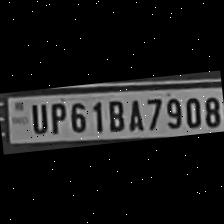0: (180, 92, 202, 128)
1: (86, 96, 106, 132)
6: (64, 98, 88, 134)
7: (140, 92, 162, 130)
8: (200, 90, 222, 128)
9: (161, 92, 183, 128)
A: (123, 94, 145, 132)
B: (102, 94, 126, 132)
P: (45, 99, 67, 134)
U: (26, 99, 48, 133)
